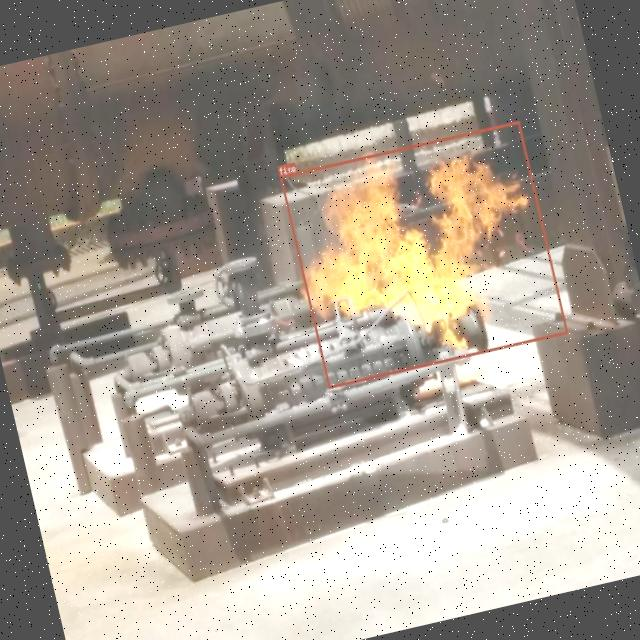fire: (278, 120, 567, 388)
